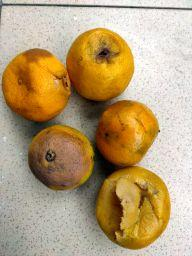orange: (94, 166, 172, 251), (2, 47, 72, 124), (66, 27, 135, 104), (28, 124, 97, 192), (94, 99, 161, 167)
